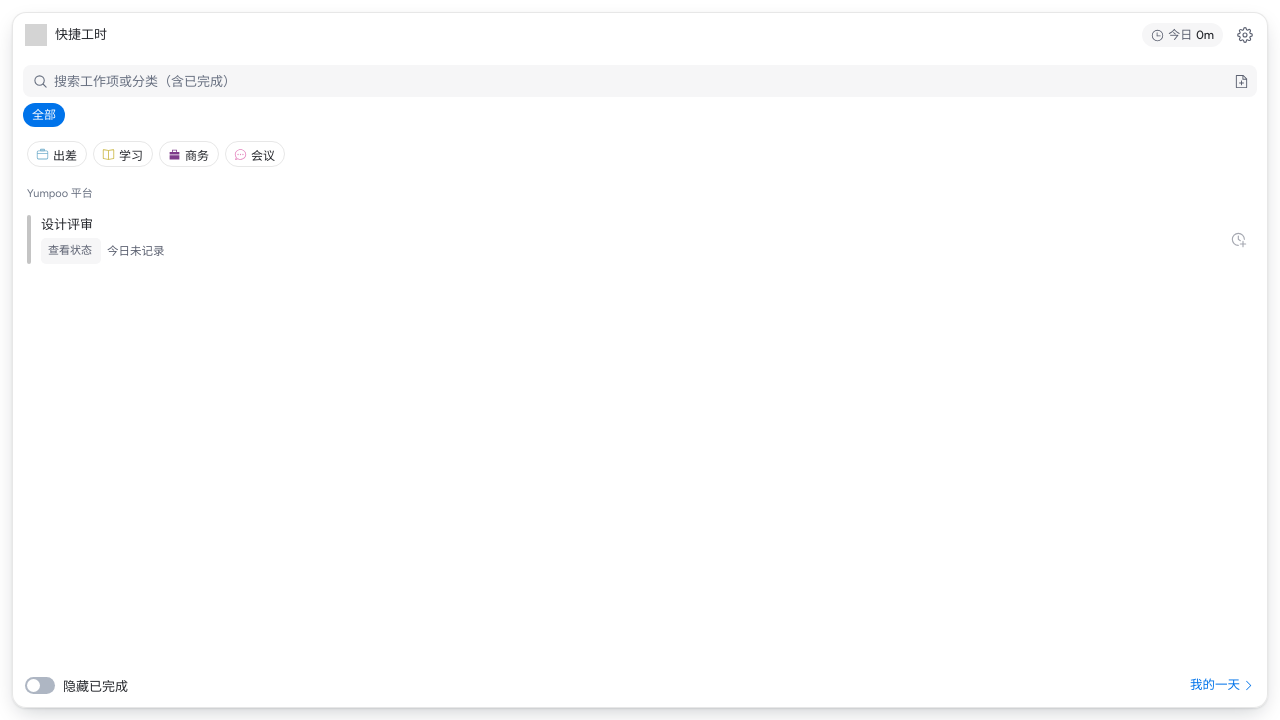
快捷工时小窗 › 旧候选响应使用中性入口，点击读取后补全真实状态
Click the button "查看状态".
click(71, 251)  # box [41, 238, 101, 264]
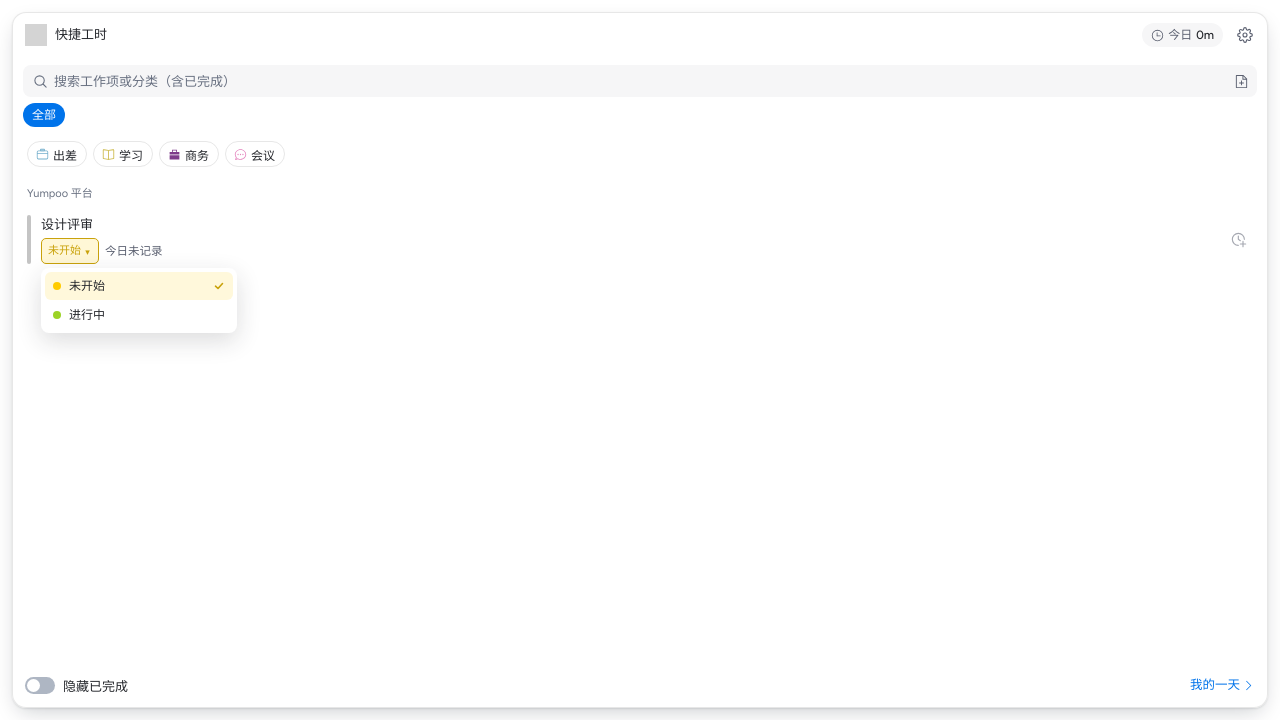
Check: the button "未开始 ▾" is shown, box [41, 238, 99, 264]
